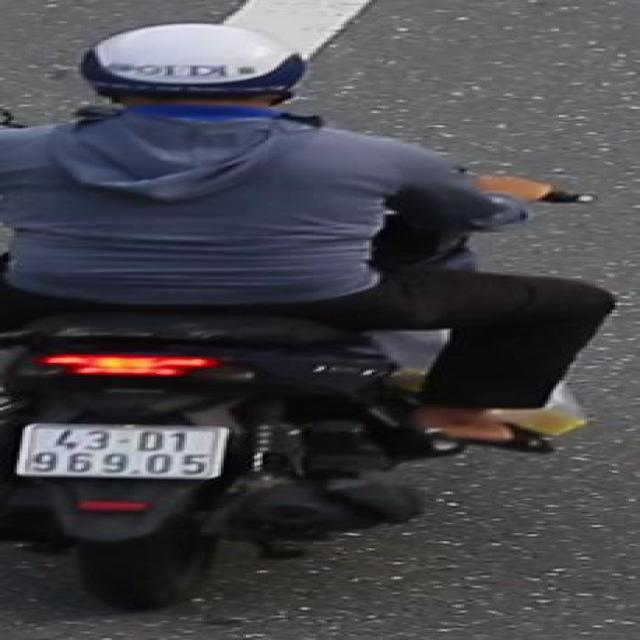LP: (3, 415, 232, 494)
helmet: (58, 20, 316, 113)
